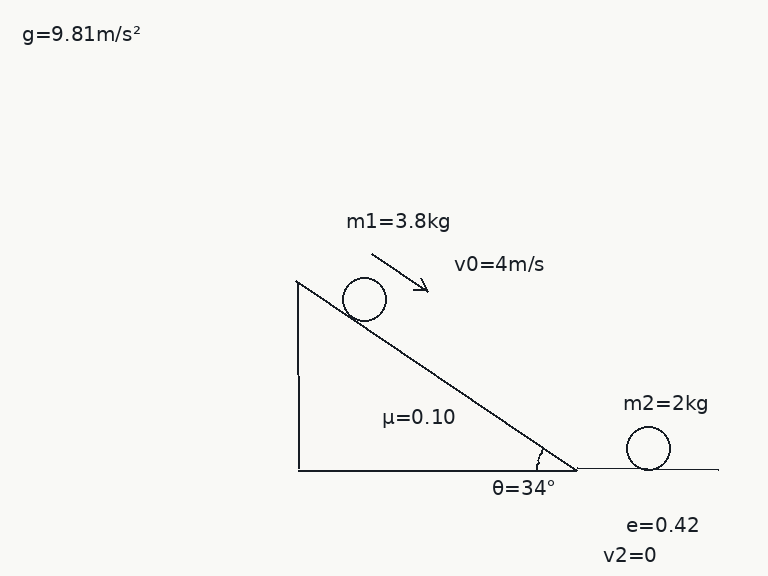ball: (340, 275, 388, 323), (624, 424, 672, 472)
ramp: (296, 280, 579, 472)
